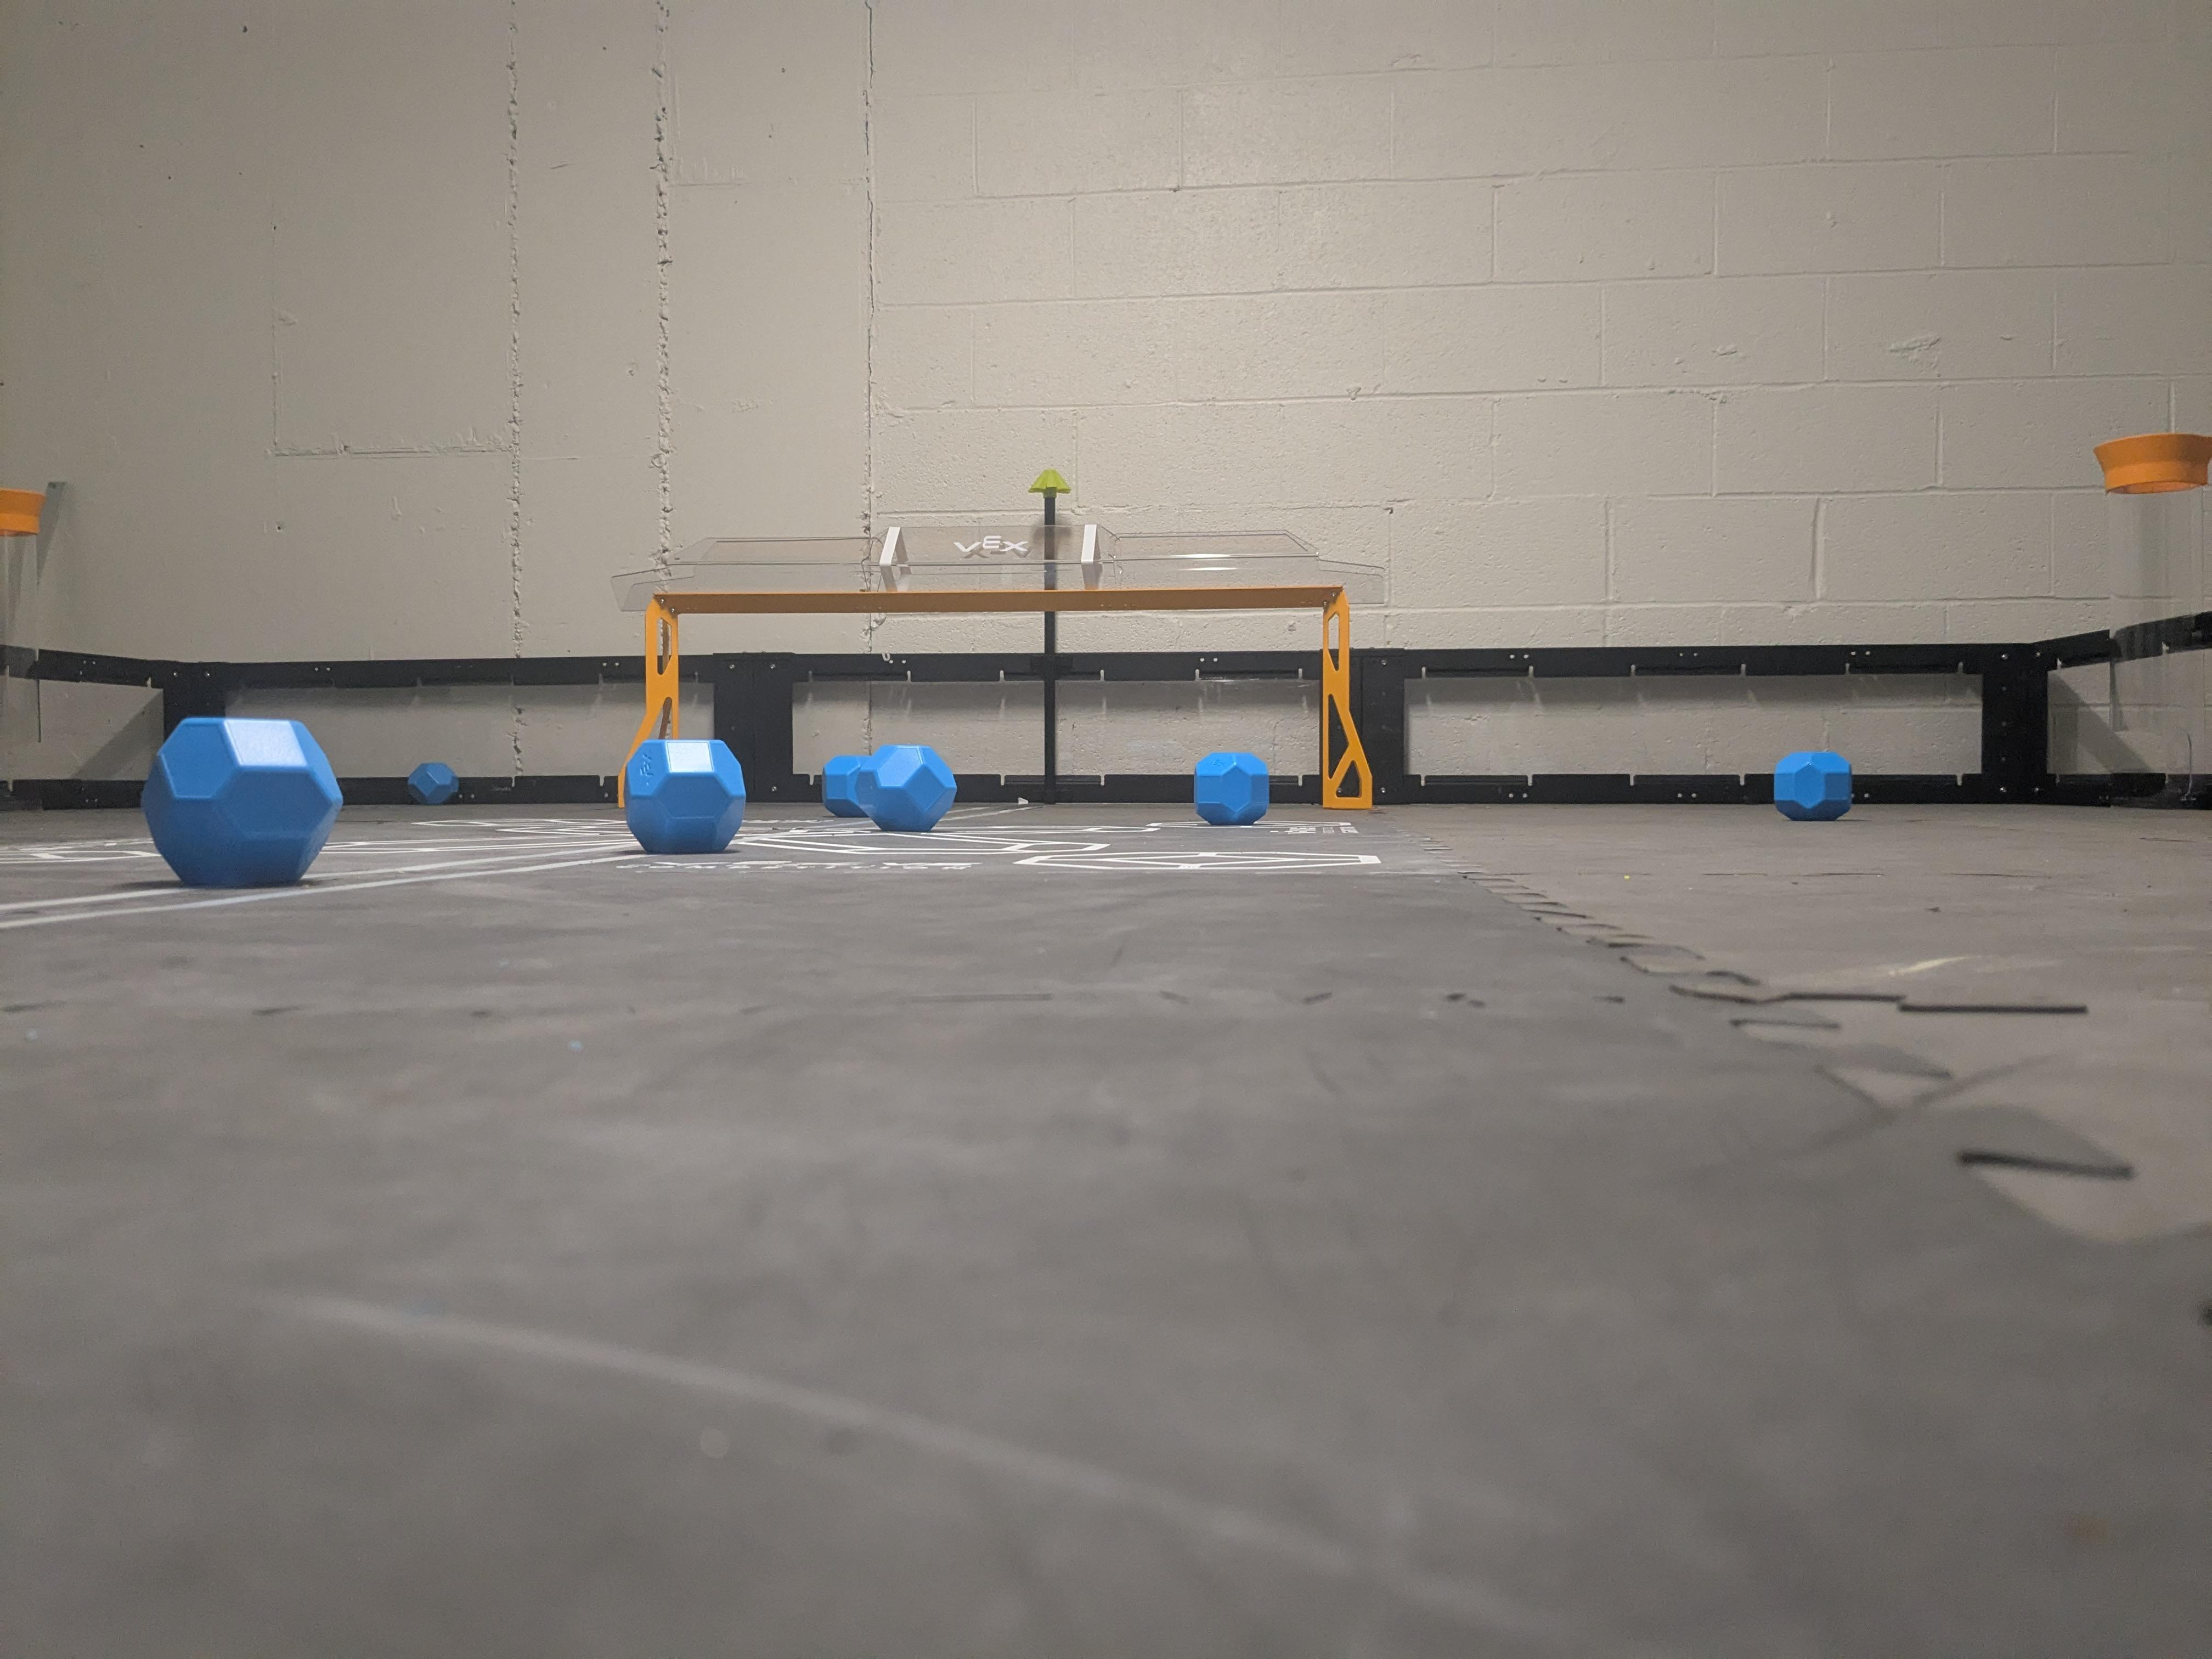Vex-Pieces-BLUE: (141, 718, 338, 889), (618, 739, 742, 847), (822, 746, 949, 826), (1198, 751, 1268, 826), (1773, 755, 1848, 819), (408, 762, 458, 805)
